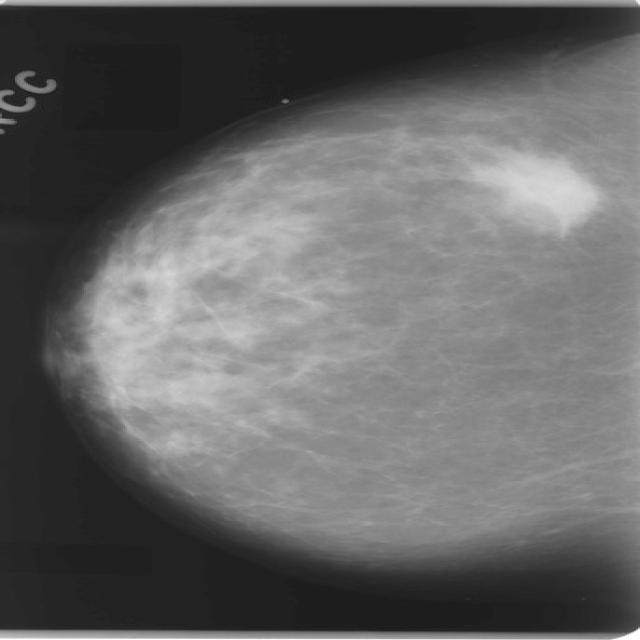tumour: (463, 145, 599, 231)
